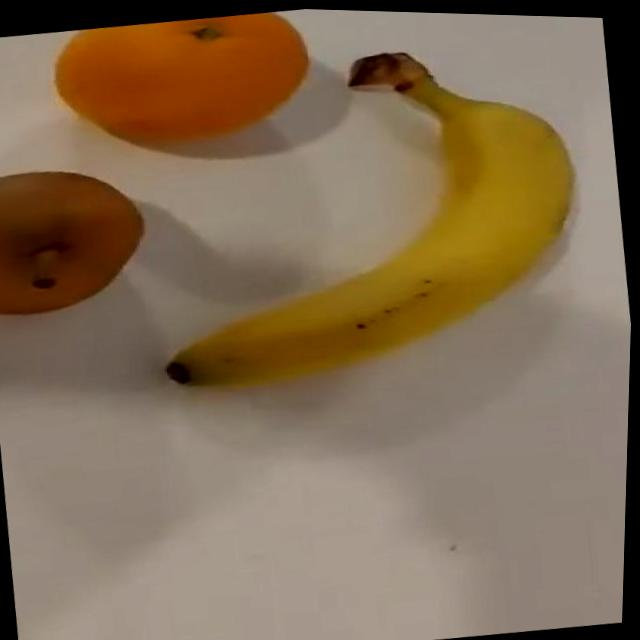Banana: (130, 22, 602, 407)
